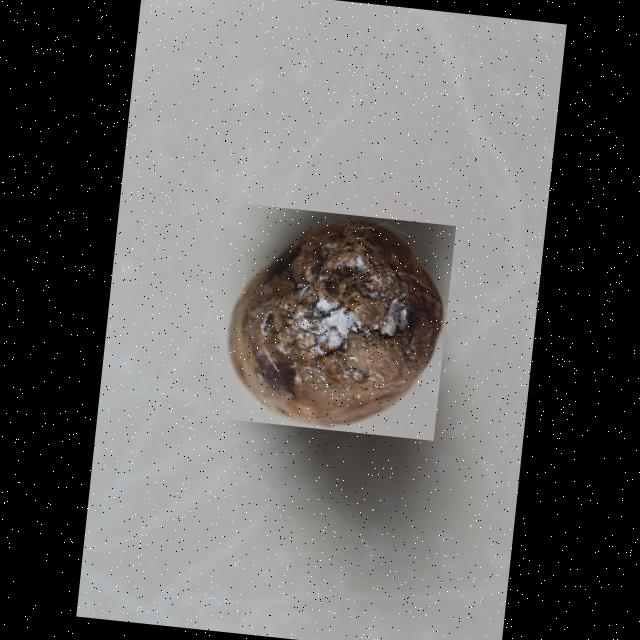Diseased-fungal potato: (203, 202, 454, 440)
